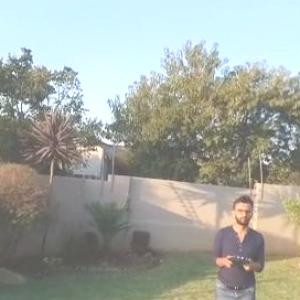follow: (214, 186, 277, 299)
